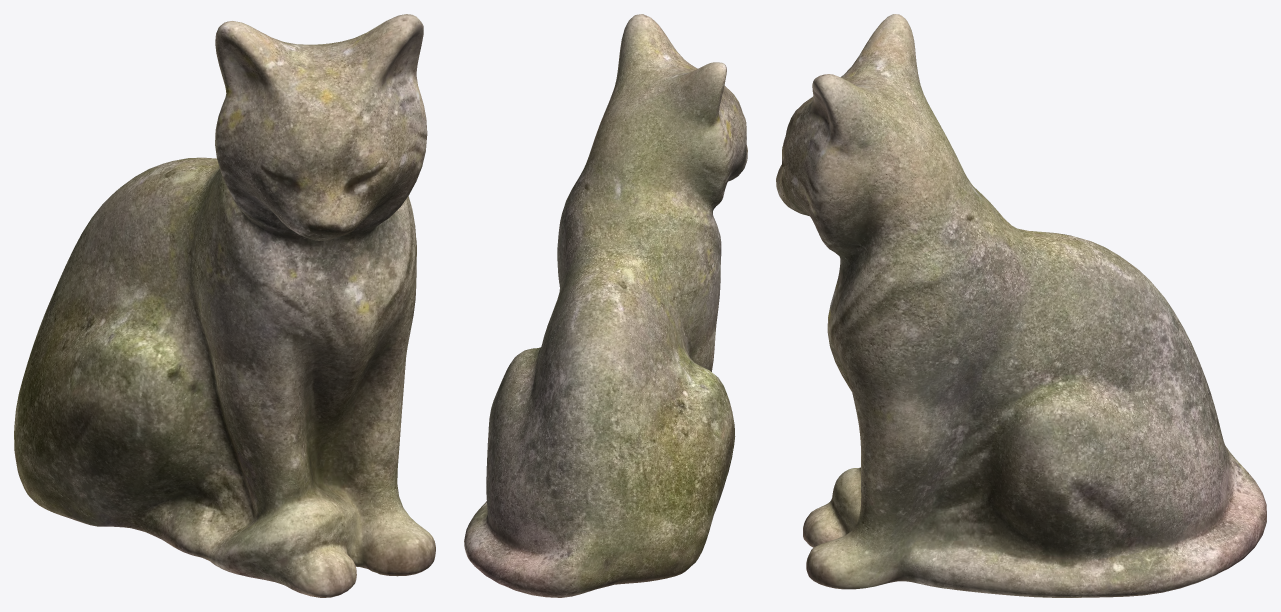
File: concrete_cat_statue.gltf
The picture shows the model from 3 angles, left to right: view 1: azimuth 30°, elevation 25°; view 2: azimuth 150°, elevation 25°; view 3: azimuth 270°, elevation 25°; orthographic projection. The views are drawn at different scales.
Visible parts, largest first — view 1: concrete_cat_statue; view 2: concrete_cat_statue; view 3: concrete_cat_statue.
Part boxes in pixels (box(x1,y1,x2,y2)): concrete_cat_statue: box(14, 14, 435, 597); concrete_cat_statue: box(464, 14, 747, 597); concrete_cat_statue: box(776, 14, 1266, 597).
Bounding box in the file's own units: 0.153 × 0.283 × 0.25.
Materials: 1 (1 with a texture image).
